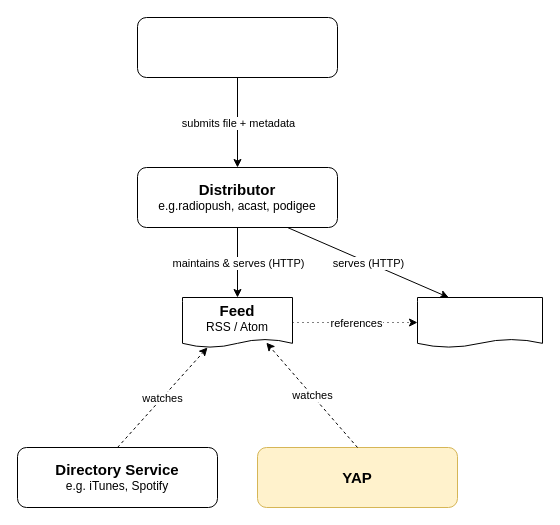
Some shapes in this 560 by 525 pixel diagram are drawn without their labels. The shapes that lost their labels are listed below. From the top down, each one's box as (x1, y1, x2, y2) in pixels, then its label:
(136, 16, 338, 78): Podcast Producer / Artist
(416, 296, 542, 348): Asset Files e.g. audio file, images
